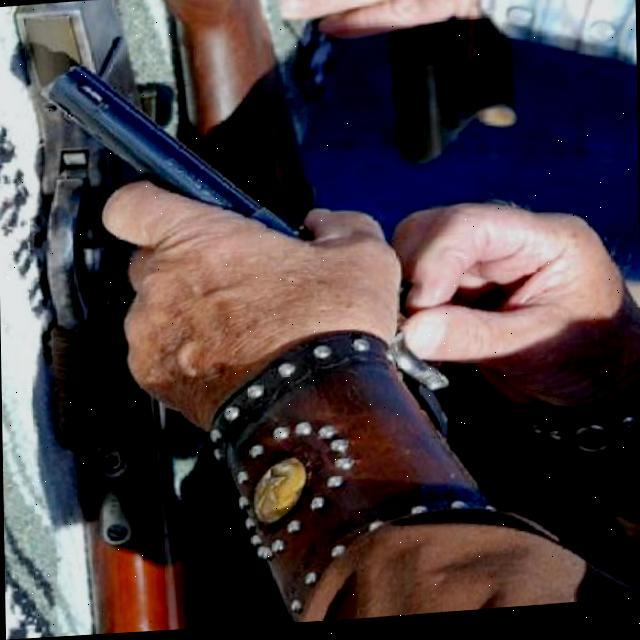gun: (43, 39, 450, 478)
